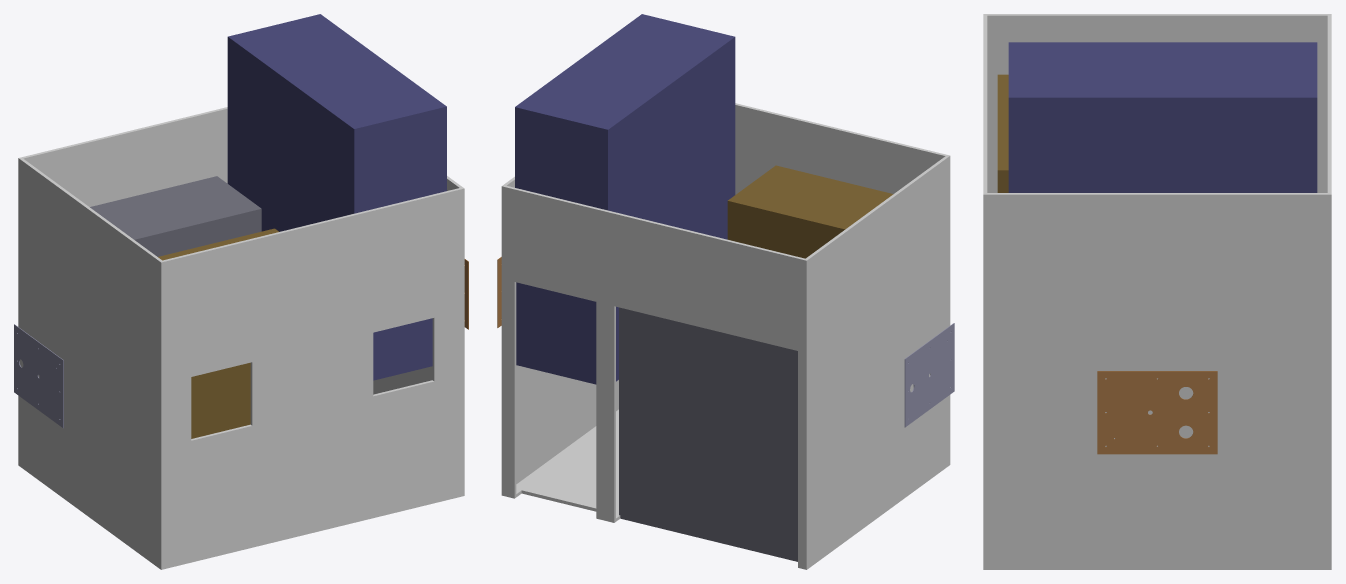
File: assembly-exploded.glb
3 renders of one model, left to right at view 1: azimuth 30°, elevation 25°; view 2: azimuth 150°, elevation 25°; view 3: azimuth 270°, elevation 25°, orthographic. The views are drawn at different scales.
Visible parts, largest first — view 1: container_shell, GRD-SWG-001, GRD-LVS-001, GRD-XFM-001, ARC-PLT-CG; view 2: container_shell, GRD-SWG-001, GRD-LVS-001, GRD-XFM-001, ARC-PLT-CG; view 3: container_shell, GRD-SWG-001, ARC-PLT-BG-AC, GRD-XFM-001.
Part boxes in pixels (x1=…): container_shell: x1=18, y1=107, x2=464, y2=569; GRD-SWG-001: x1=227, y1=14, x2=446, y2=380; GRD-LVS-001: x1=90, y1=176, x2=261, y2=256; GRD-XFM-001: x1=158, y1=228, x2=278, y2=438; ARC-PLT-CG: x1=14, y1=324, x2=63, y2=428; container_shell: x1=501, y1=103, x2=950, y2=569; GRD-SWG-001: x1=515, y1=14, x2=735, y2=384; GRD-LVS-001: x1=619, y1=307, x2=797, y2=561; GRD-XFM-001: x1=727, y1=165, x2=893, y2=258; ARC-PLT-CG: x1=904, y1=323, x2=954, y2=427; container_shell: x1=983, y1=14, x2=1331, y2=569; GRD-SWG-001: x1=1008, y1=42, x2=1317, y2=192; ARC-PLT-BG-AC: x1=1097, y1=371, x2=1217, y2=454; GRD-XFM-001: x1=997, y1=74, x2=1008, y2=192.
Bounding box in the file's own units: 3997 × 3613 × 2438.
